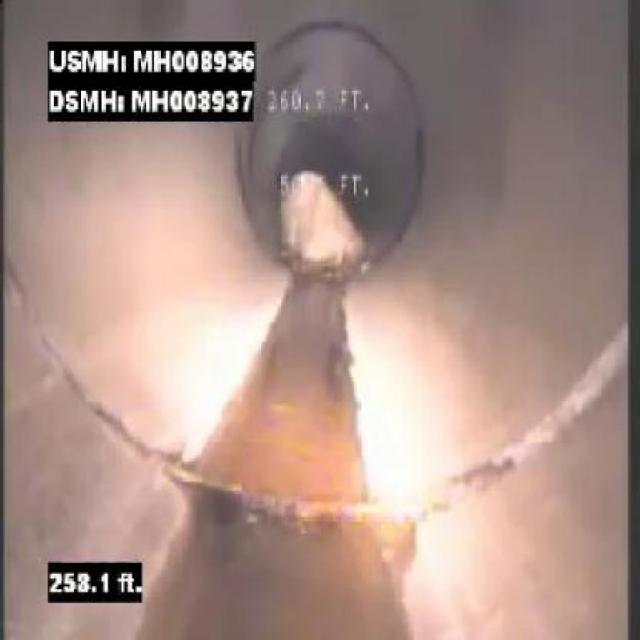Obstacle: (258, 155, 394, 283)
